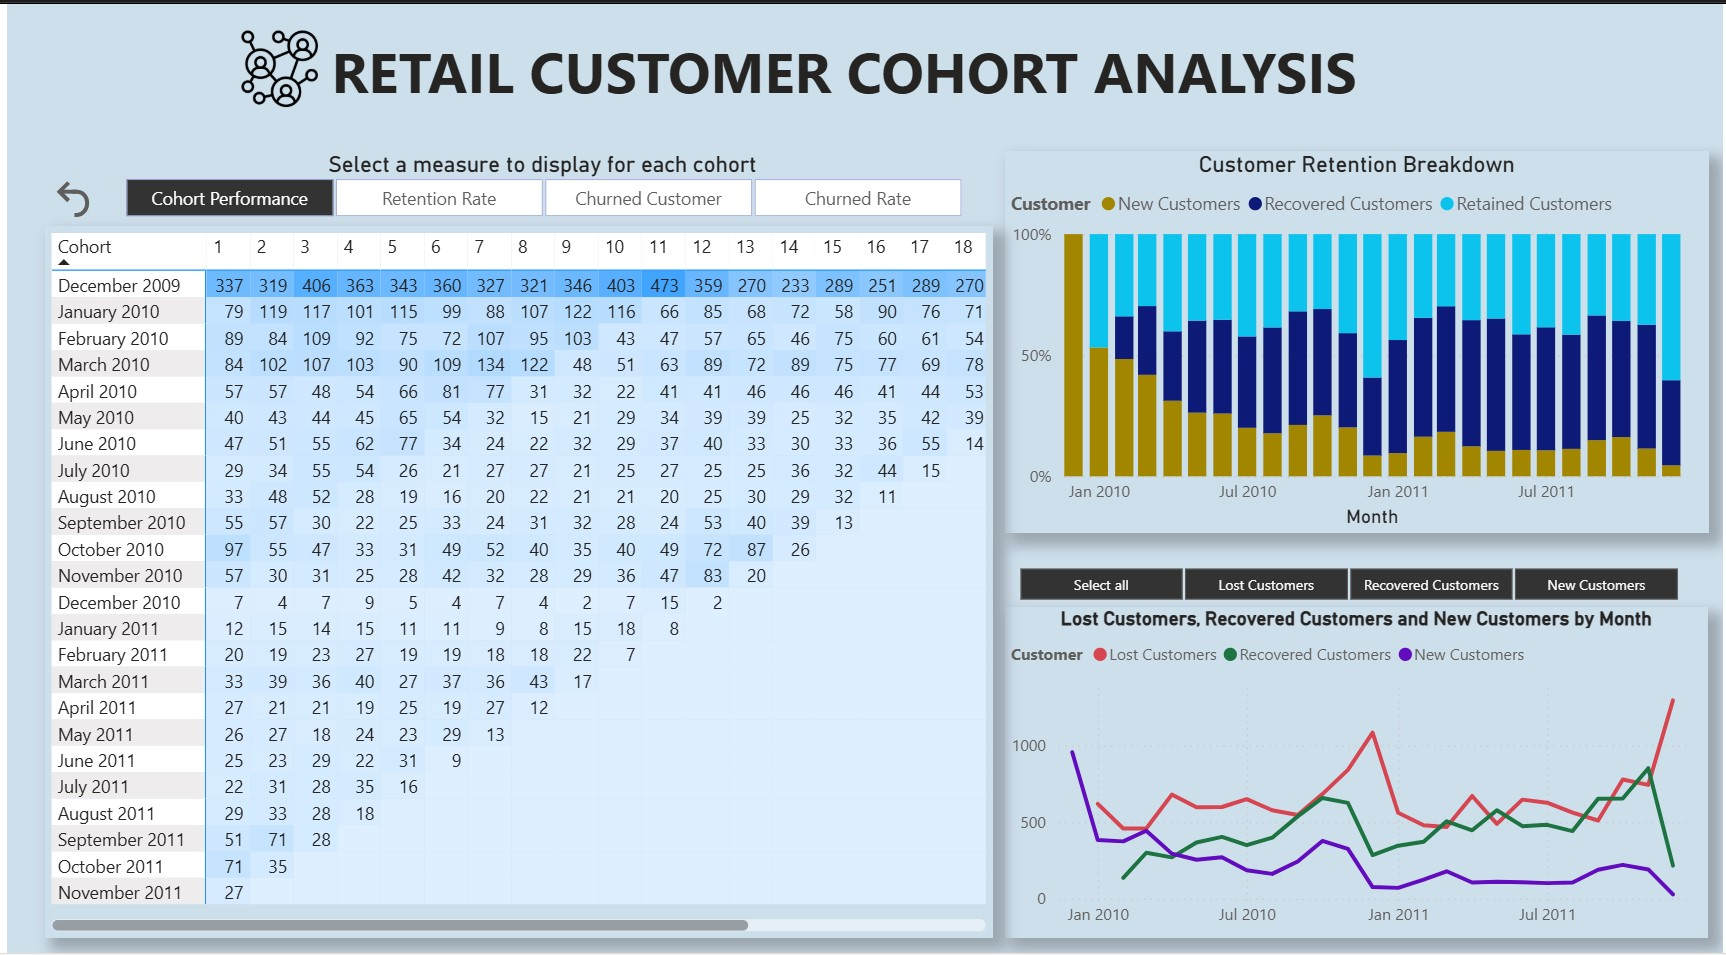

What the dashboard file says about the page in this screenshot:
{"tool":"powerbi","page":{"name":"Cohort","canvas":[1300,720],"ordinal":0},"visuals":[{"type":"slicer","title":"Select a measure to display for each cohort","fields":{"Values":["Parameter.Parameter"]},"box":[69.4,111.2,677.9,56.3],"z":0},{"type":"pivotTable","fields":{"Values":["_Measure.Cohort Performance"],"Rows":["DimDate.Start of the Month"],"Columns":["FactSales.Month Since First Trasaction"]},"box":[28.7,167.9,718.6,539.4],"z":1000},{"type":"hundredPercentStackedColumnChart","title":"Customer Retention Breakdown","fields":{"Category":["DimDate.Start of the Month"],"Y":["_Measure.New Customers","_Measure.Recovered Customers","_Measure.Retained Customers"]},"box":[756.4,111.2,534,289.2],"z":2000},{"type":"lineChart","fields":{"Y":["_Measure.Lost Customers","_Measure.Recovered Customers","_Measure.New Customers"],"Category":["DimDate.Start of the Month"]},"box":[756.5,457.6,533.3,250.8],"z":3000},{"type":"slicer","title":"Customer Situ","fields":{"Values":["Parameter 2.Parameter"]},"box":[747.3,420.1,543.1,35.3],"z":4000},{"type":"image","box":[172,14.3,69.6,68.6],"z":5000},{"type":"textbox","box":[241.6,15.4,942.8,67.6],"z":6000},{"type":"actionButton","box":[31.9,127.8,36.9,40.5],"z":7000}]}

Visuals, with their boxes in screenshot pixels (x1, y1, x2, y2), scaled from the page's 1300x720 canvas onto the 1726x955 screenshot:
"Select a measure to display for each cohort" slicer: 92, 147, 992, 222
pivotTable - _Measure.Cohort Performance x DimDate.Start of the Month: 38, 223, 992, 938
"Customer Retention Breakdown" hundredPercentStackedColumnChart: 1004, 147, 1713, 531
lineChart - _Measure.Lost Customers x _Measure.Recovered Customers: 1004, 607, 1712, 940
"Customer Situ" slicer: 992, 557, 1713, 604
image: 228, 19, 321, 110
textbox: 321, 20, 1573, 110
actionButton: 42, 170, 91, 223
